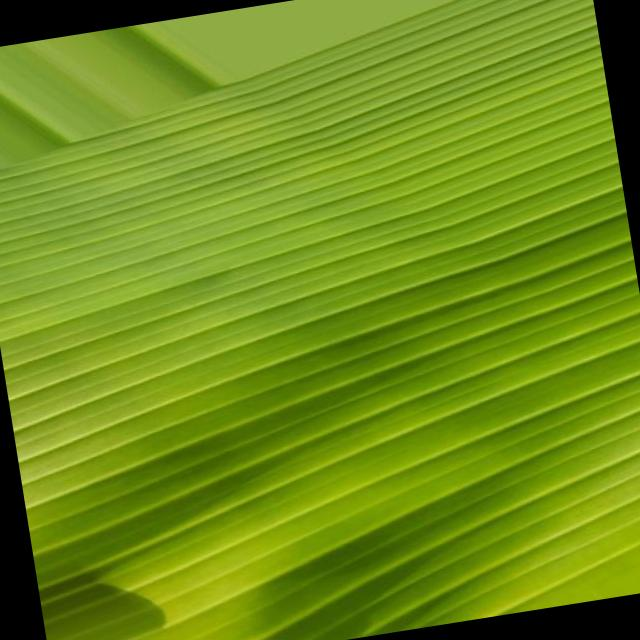Banana_Healthy: (166, 138, 592, 569)
